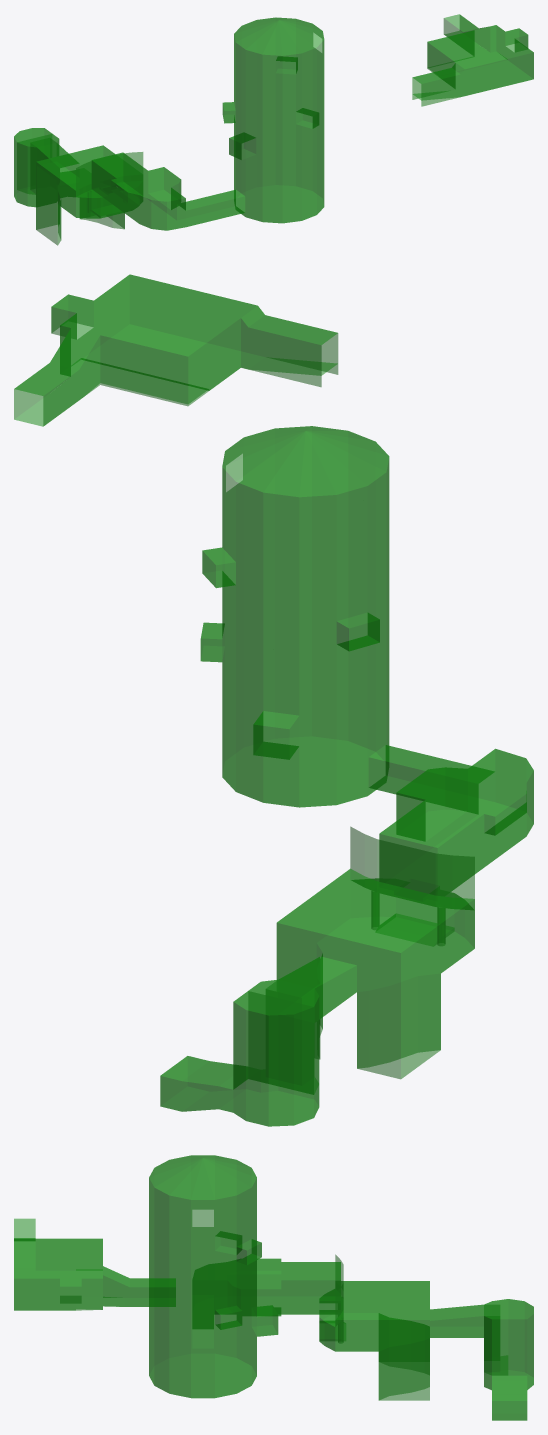
Rendered from camera_col.obj.
3 views of the same model, one above another, from view 1: azimuth 30°, elevation 25°; view 2: azimuth 150°, elevation 25°; view 3: azimuth 270°, elevation 25° (orthographic). The views are drawn at different scales.
Bounding box in the file's own units: 170 × 121 × 193.
